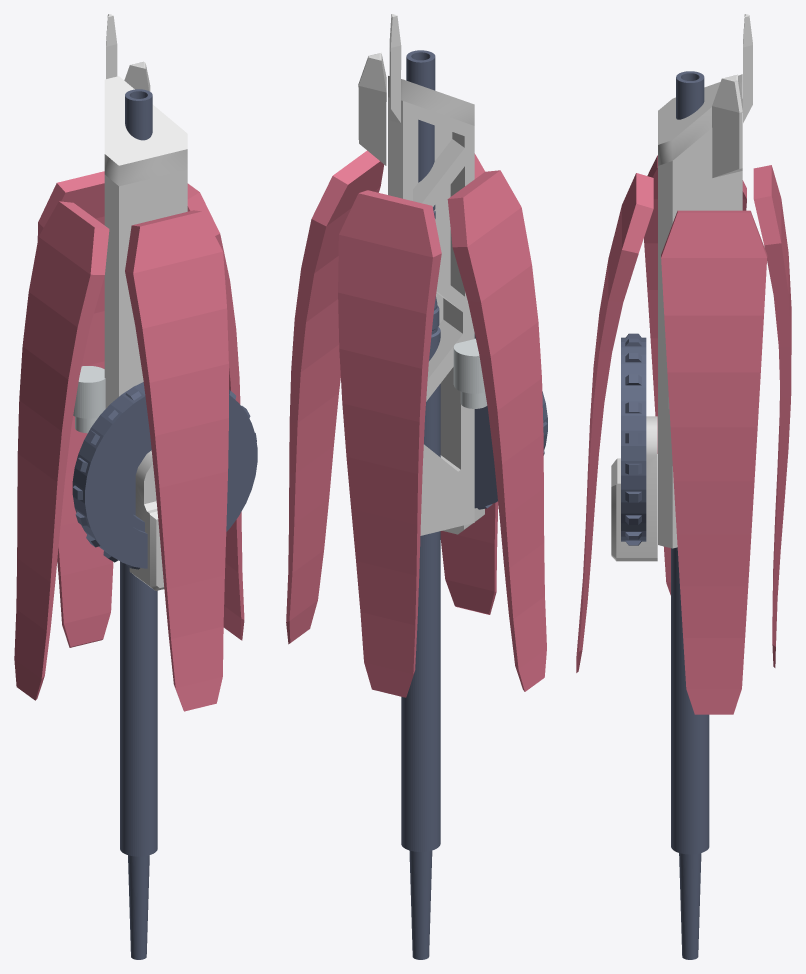
Rendered from station_defense_closed.glb.
3 views of the same model, side by side, from view 1: azimuth 30°, elevation 25°; view 2: azimuth 150°, elevation 25°; view 3: azimuth 270°, elevation 25° (orthographic). The views are drawn at different scales.
Visible parts, largest first — view 1: Cube.004, Cube.002, Cylinder.020, Cylinder.014, Cylinder.018, Cube.005, Cube.001, Cube.010, Cylinder.021, Cylinder.022, Cylinder.017; view 2: Cube.005, Cube.002, Cube.001, Cylinder.020, Cylinder.014, Cube.004, Cylinder.017, Cylinder.018, Cylinder.021, Cylinder.022; view 3: Cube.001, Cylinder.020, Cylinder.014, Cube.004, Cube.005, Cylinder.018, Cube.010, Cylinder.017, Cube.002, Cylinder.022.
Part boxes in pixels (x1=…): Cube.004: x1=125, y1=210, x2=228, y2=711; Cube.002: x1=14, y1=201, x2=109, y2=700; Cylinder.020: x1=104, y1=76, x2=187, y2=408; Cylinder.014: x1=120, y1=89, x2=157, y2=959; Cylinder.018: x1=72, y1=382, x2=257, y2=569; Cube.005: x1=37, y1=171, x2=113, y2=647; Cube.001: x1=187, y1=183, x2=244, y2=640; Cube.010: x1=129, y1=450, x2=164, y2=590; Cylinder.021: x1=73, y1=366, x2=105, y2=433; Cylinder.022: x1=106, y1=14, x2=117, y2=78; Cylinder.017: x1=124, y1=61, x2=150, y2=91; Cube.005: x1=338, y1=190, x2=441, y2=697; Cube.002: x1=447, y1=170, x2=546, y2=691; Cube.001: x1=286, y1=150, x2=384, y2=644; Cylinder.020: x1=388, y1=76, x2=474, y2=535; Cylinder.014: x1=401, y1=50, x2=440, y2=959; Cube.004: x1=440, y1=153, x2=498, y2=614; Cylinder.017: x1=358, y1=52, x2=386, y2=165; Cylinder.018: x1=474, y1=334, x2=547, y2=509; Cylinder.021: x1=453, y1=338, x2=487, y2=408; Cylinder.022: x1=389, y1=14, x2=401, y2=123; Cube.001: x1=661, y1=210, x2=767, y2=714; Cylinder.020: x1=658, y1=74, x2=742, y2=548; Cylinder.014: x1=671, y1=71, x2=709, y2=959; Cube.004: x1=576, y1=173, x2=653, y2=672; Cube.005: x1=753, y1=165, x2=791, y2=667; Cylinder.018: x1=621, y1=333, x2=646, y2=545; Cube.010: x1=611, y1=416, x2=657, y2=561; Cylinder.017: x1=712, y1=74, x2=742, y2=177; Cube.002: x1=644, y1=155, x2=746, y2=595; Cylinder.022: x1=743, y1=14, x2=752, y2=122.
Bounding box in the file's own units: 35.95 × 146 × 30.29.
